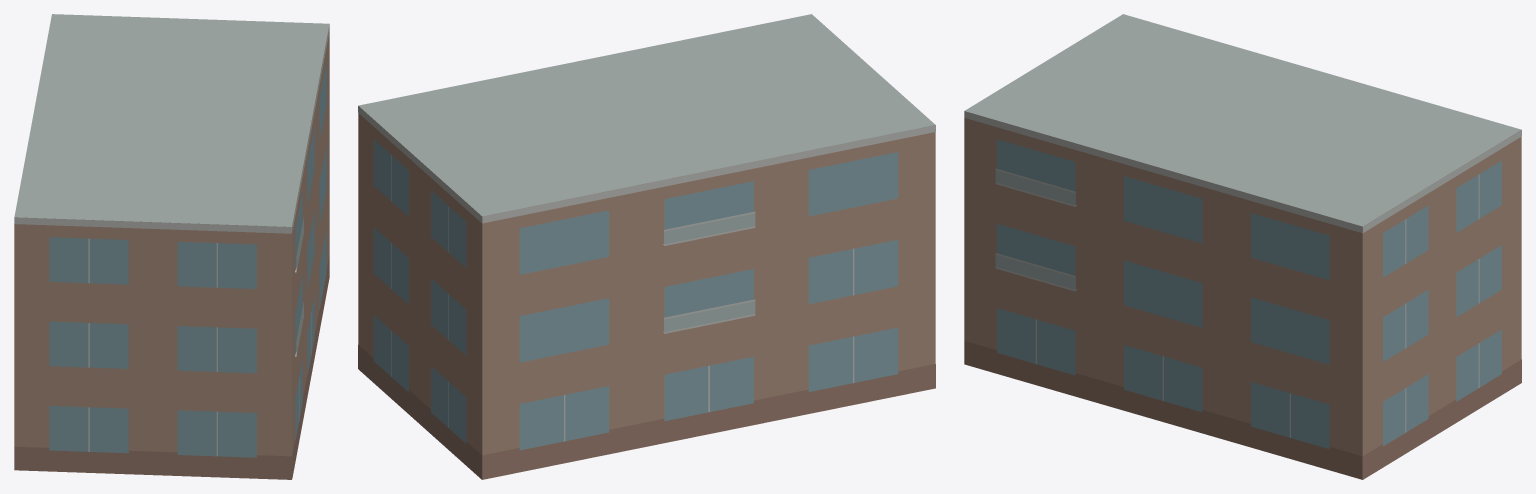
File: survey-upis-32704761.glb
3 views of the same model, side by side, from view 1: azimuth 30°, elevation 25°; view 2: azimuth 150°, elevation 25°; view 3: azimuth 270°, elevation 25° (orthographic). The views are drawn at different scales.
Visible parts, largest first — view 1: survey-upis-32704761.tmp; view 2: survey-upis-32704761.tmp; view 3: survey-upis-32704761.tmp.
Part boxes in pixels (left/top/right/bottom): survey-upis-32704761.tmp: left=14, top=14, right=329, bottom=479; survey-upis-32704761.tmp: left=358, top=14, right=935, bottom=479; survey-upis-32704761.tmp: left=964, top=14, right=1521, bottom=479.
Bounding box in the file's own units: 16.48 × 9.15 × 18.26.
